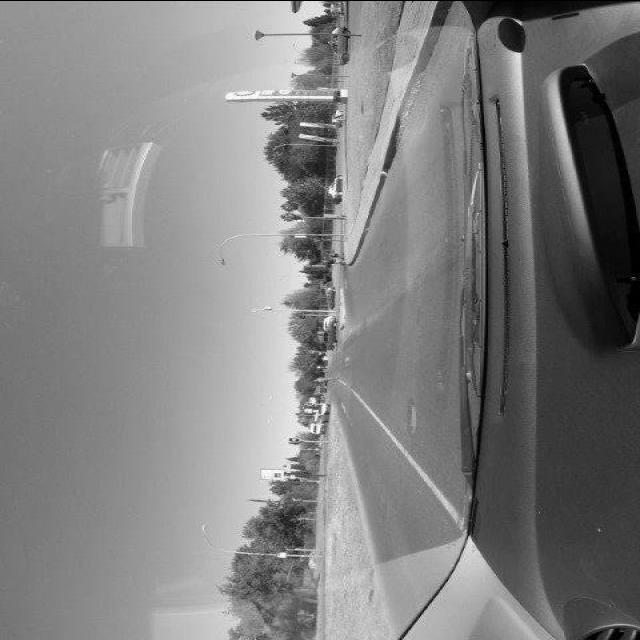lubang: (400, 396, 422, 437), (337, 399, 349, 419), (342, 353, 352, 371)
